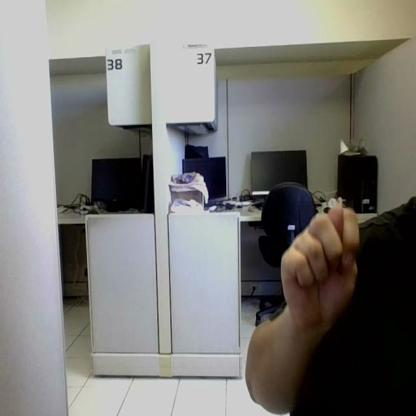T: (281, 206, 359, 329)
